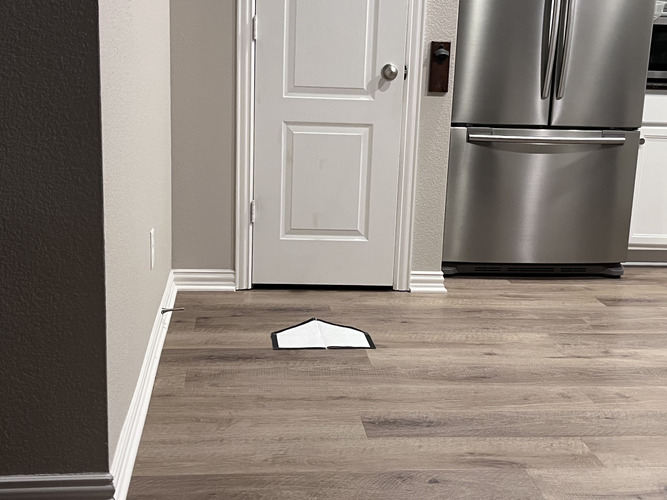homeplate: (269, 318, 373, 350)
